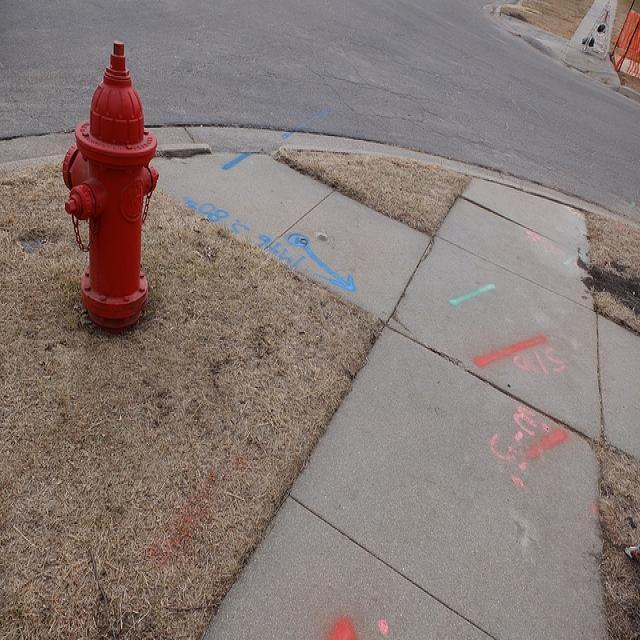fire_hydrant: (62, 39, 160, 328)
